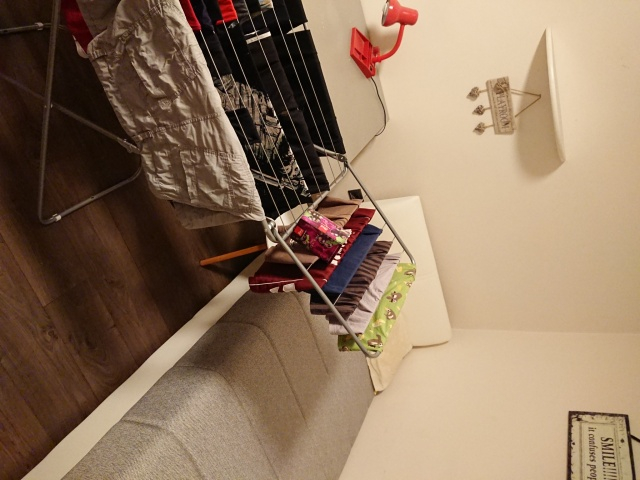Franck Black Currant Tea 60g: (288, 206, 353, 267)
